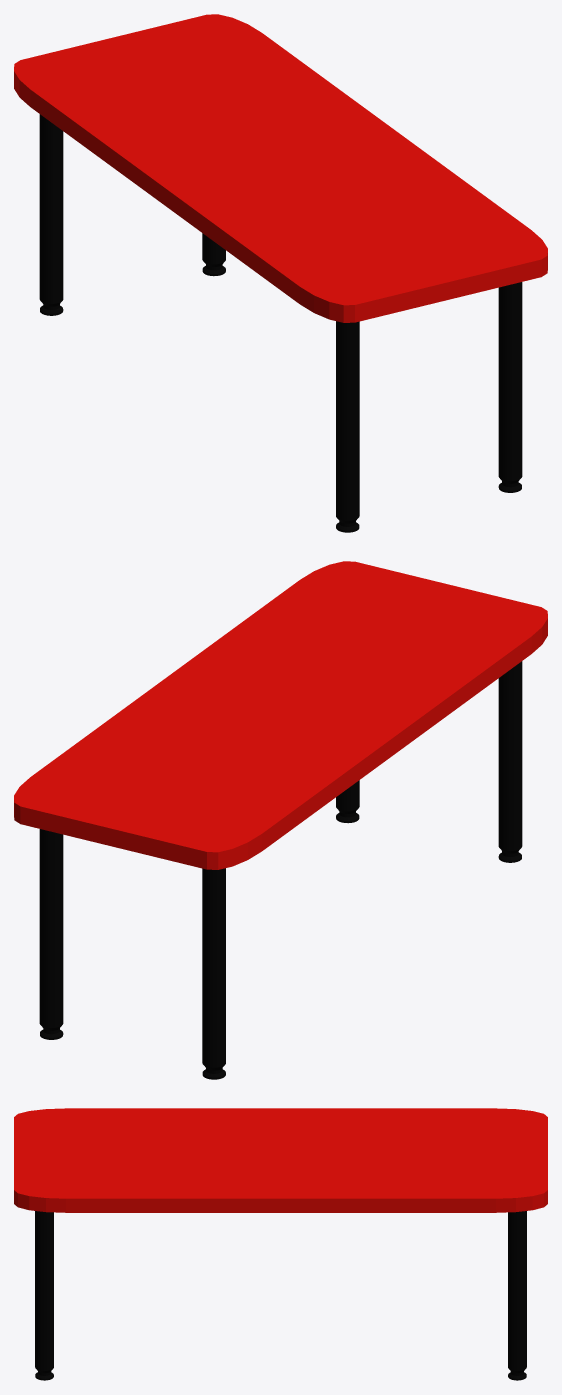
The model's file is Escritorio.fbx.
3 views of the same model, one above another, from view 1: azimuth 30°, elevation 25°; view 2: azimuth 150°, elevation 25°; view 3: azimuth 270°, elevation 25° (orthographic). The views are drawn at different scales.
Parts seen in each view (by area): view 1: Escritorio; view 2: Escritorio; view 3: Escritorio.
Part boxes in pixels (<box>): Escritorio: <box>14,14,547,532</box>; Escritorio: <box>14,561,547,1079</box>; Escritorio: <box>14,1108,547,1380</box>.
Bounding box in the file's own units: 0.7585 × 0.7496 × 1.9.
